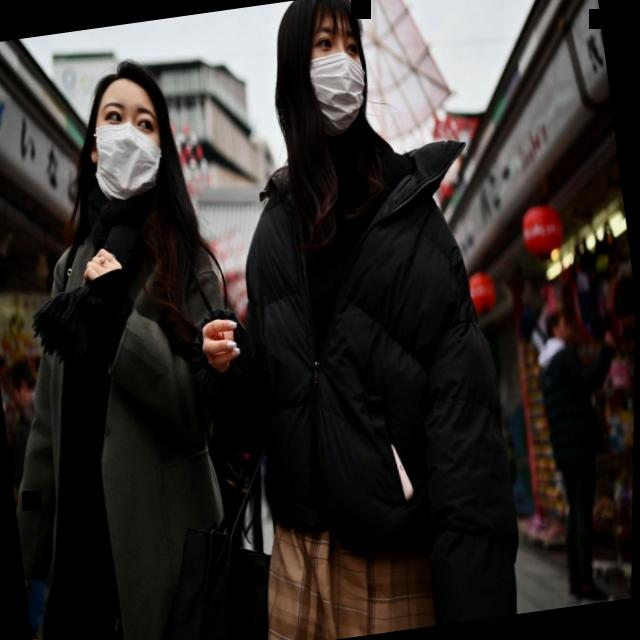Mask: (62, 43, 192, 215), (257, 0, 383, 149)
NO-Mask: (539, 298, 584, 358)
